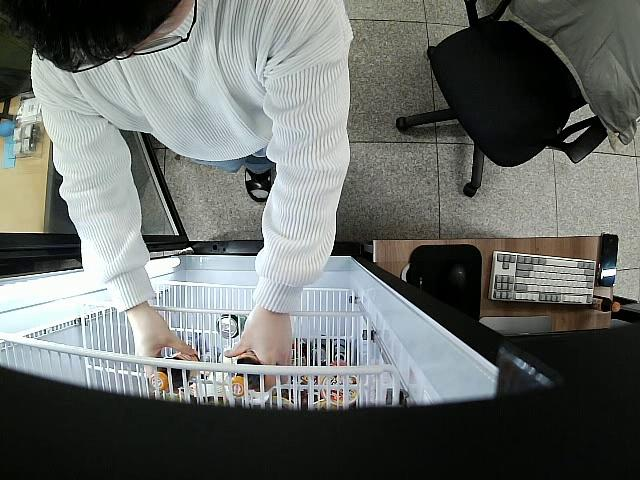00_hand: (225, 318, 293, 389), (134, 313, 197, 381)
17_vita500: (151, 350, 202, 394), (230, 351, 264, 396)
